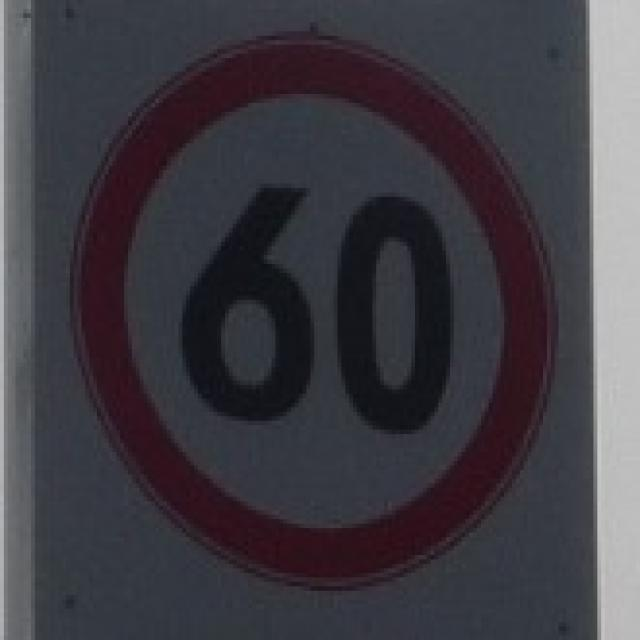Speed Limit -60-: (172, 178, 460, 434)
